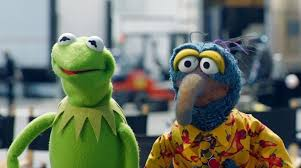kermit: (50, 32, 117, 107)
